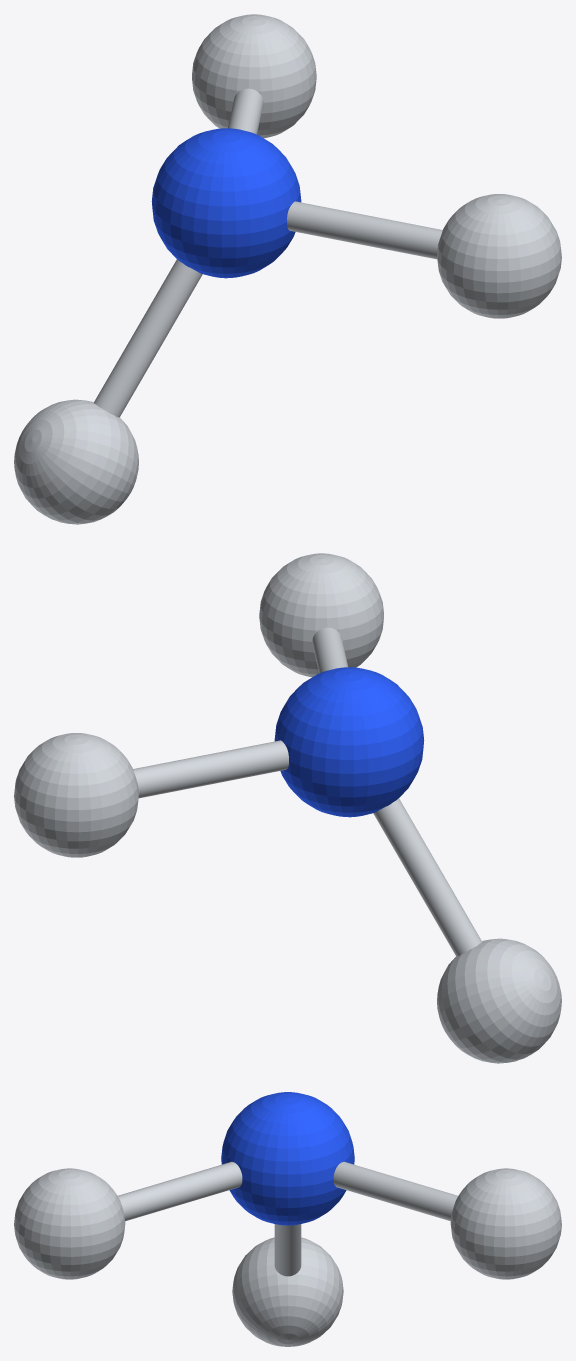
The model's file is ammonia.fbx.
The picture shows the model from 3 angles, top to bottom: view 1: azimuth 30°, elevation 25°; view 2: azimuth 150°, elevation 25°; view 3: azimuth 270°, elevation 25°; orthographic projection. The views are drawn at different scales.
Visible parts, largest first — view 1: ammonia; view 2: ammonia; view 3: ammonia.
Boxes of the visible parts, x1,y1,x2,y2 form: ammonia: (14, 14, 561, 524); ammonia: (14, 553, 561, 1063); ammonia: (14, 1092, 561, 1346).
Bounding box in the file's own units: 113 × 91.78 × 148.
